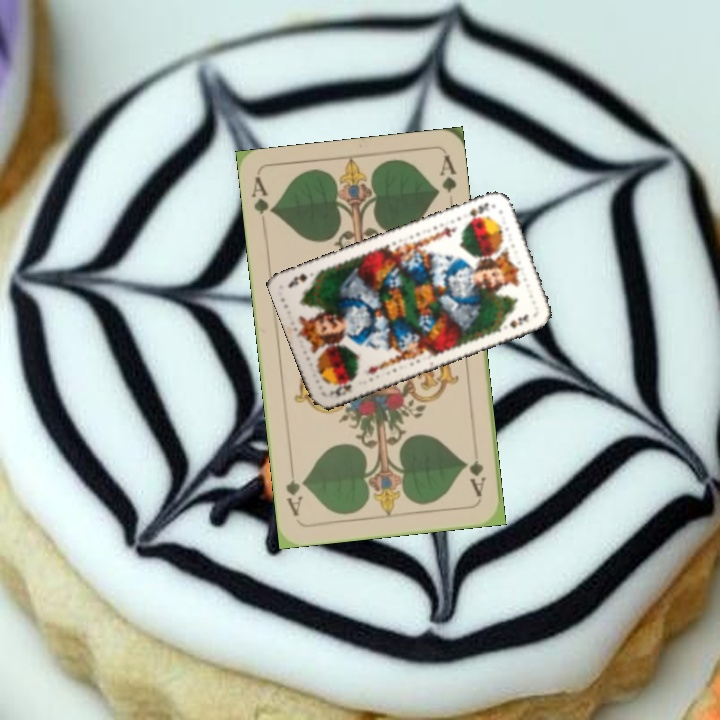GA: (465, 442, 489, 500), (247, 174, 277, 217)
SK: (460, 199, 491, 225), (324, 376, 357, 398)
